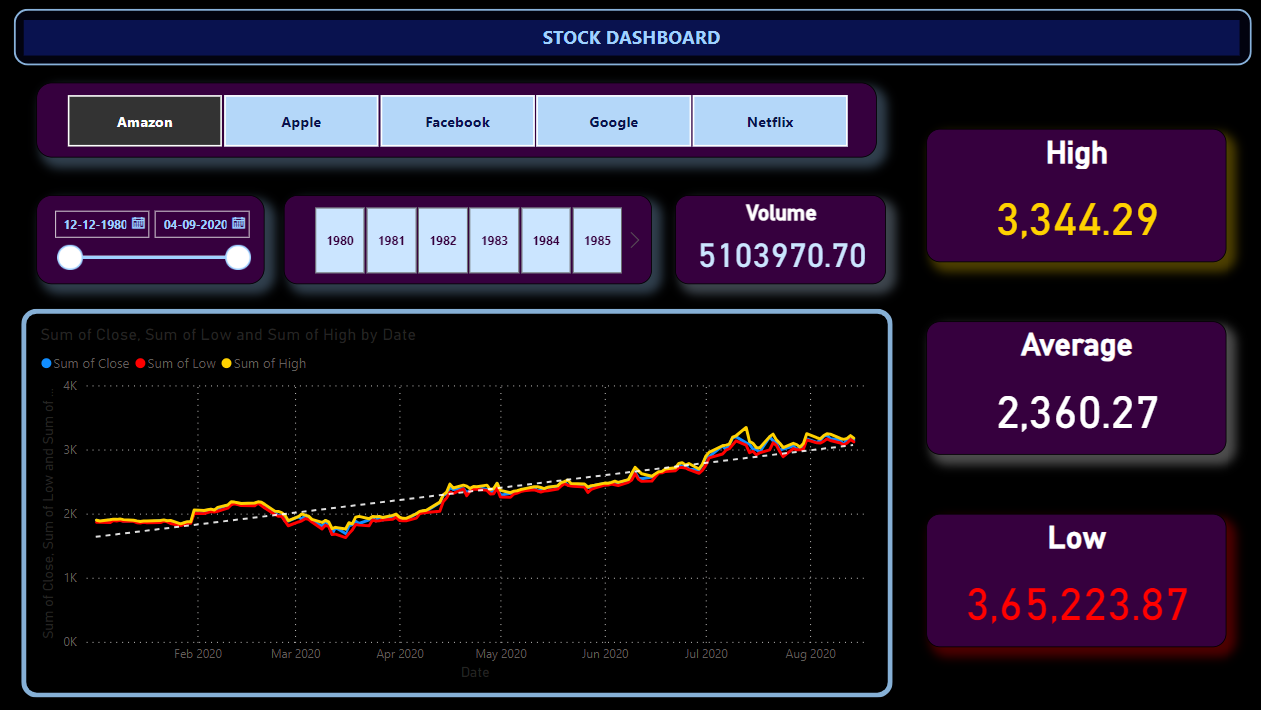

This screenshot's page, from the dashboard's own definition file:
{"tool":"powerbi","page":{"name":"Page 1","canvas":[1280,720],"ordinal":0},"visuals":[{"type":"shape","box":[13.8,8.8,1253.8,57.5],"z":0},{"type":"textbox","box":[23.8,20,1231.2,36.2],"z":1000},{"type":"slicer","fields":{"Values":["FAANG.Name"]},"box":[36.2,83.8,851.2,76.2],"z":2000},{"type":"shape","box":[21.2,312.5,882.5,393.8],"z":3000},{"type":"lineChart","fields":{"Y":["Sum(FAANG.Close)","Sum(FAANG.Low)","Sum(FAANG.High)"],"Category":["FAANG.Date"]},"box":[32.5,325,863.8,370],"z":4000},{"type":"slicer","fields":{"Values":["FAANG.Date"]},"box":[36.2,197.5,231.2,90],"z":5000},{"type":"slicer","fields":{"Values":["FAANG.Date.Variation.Date Hierarchy.Year"]},"box":[287.5,197.5,372.5,90],"z":6000},{"type":"card","title":"Volume","fields":{"Values":["Avg(FAANG.Volume)"]},"box":[683.8,197.5,213.8,90],"z":7000},{"type":"card","title":"High","fields":{"Values":["Max(FAANG.High)"]},"box":[937.5,130,303.8,135],"z":8000},{"type":"card","title":"Low","fields":{"Values":["Sum(FAANG.Low)"]},"box":[937.5,520,303.8,135],"z":9000},{"type":"card","title":"Average","fields":{"Values":["Avg(FAANG.Avg Price)"]},"box":[937.5,325,303.8,135],"z":10000}]}

Visuals, with their boxes in screenshot pixels (x1, y1, x2, y2), scaled from the page's 1280x720 canvas onto the 1261x710 screenshot:
shape: <bbox>14, 9, 1249, 65</bbox>
textbox: <bbox>23, 20, 1236, 55</bbox>
slicer - FAANG.Name: <bbox>36, 83, 874, 158</bbox>
shape: <bbox>21, 308, 890, 696</bbox>
lineChart - Sum(FAANG.Close) x Sum(FAANG.Low): <bbox>32, 320, 883, 685</bbox>
slicer - FAANG.Date: <bbox>36, 195, 263, 284</bbox>
slicer - FAANG.Date.Variation.Date Hierarchy.Year: <bbox>283, 195, 650, 284</bbox>
"Volume" card: <bbox>674, 195, 884, 284</bbox>
"High" card: <bbox>924, 128, 1223, 261</bbox>
"Low" card: <bbox>924, 513, 1223, 646</bbox>
"Average" card: <bbox>924, 320, 1223, 454</bbox>
